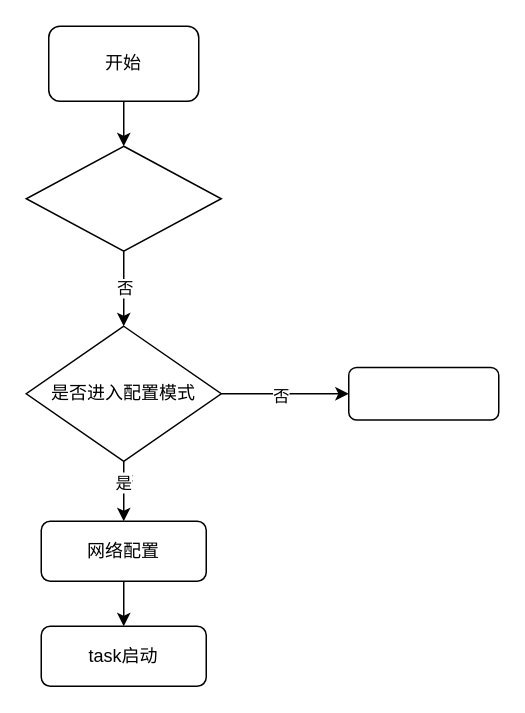
This 525x713 diagram has some shape labels left out. Each missing label, with the box of its shape:
是否有可用wifi: (25, 145, 221, 251)
退出: (347, 366, 499, 420)
